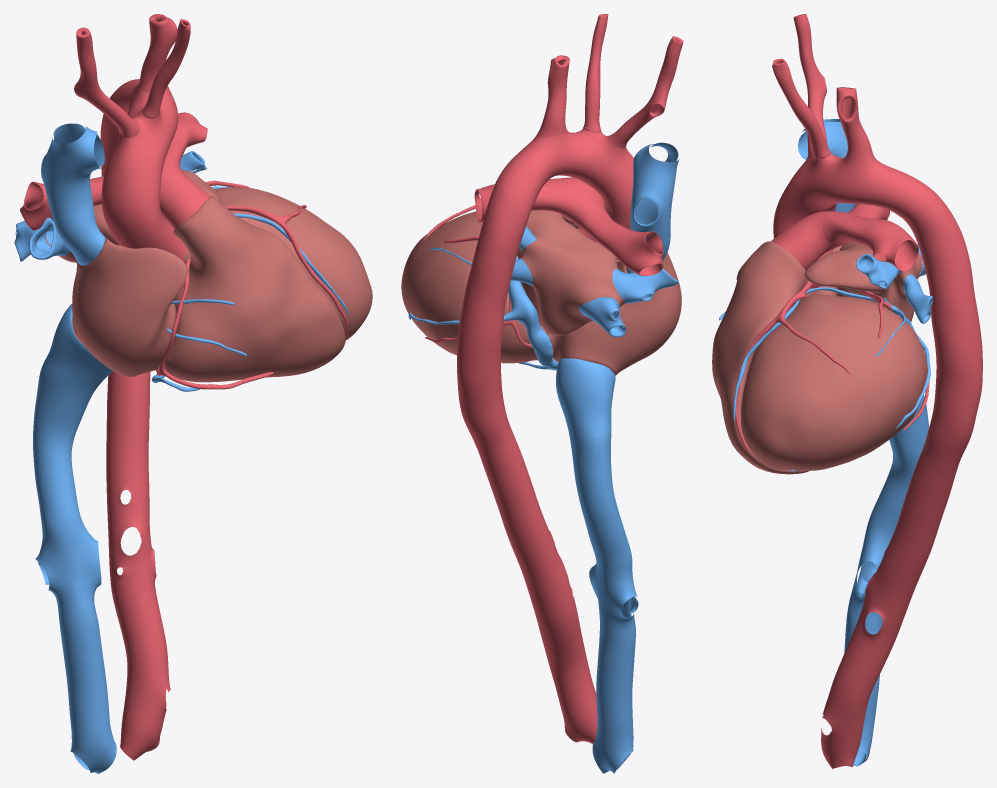
File: VH_F_Heart.glb
3 views of the same model, side by side, from view 1: azimuth 30°, elevation 25°; view 2: azimuth 150°, elevation 25°; view 3: azimuth 270°, elevation 25° (orthographic). The views are drawn at different scales.
Visible parts, largest first — view 1: VHF_right_ventricle, VHF_inferior_vena_cava_b, VHF_descending_aorta_b, VHF_right_cardiac_atrium, VHF_left_ventricle, VHF_superior_vena_cava, VHF_ascending_aorta, VHF_aortic_arch, VHF_inferior_vena_cava_a, VHF_pulmonary_trunk, VHF_brachiocephalic_artery_b, VHF_pulmonary_artery_R (+8 smaller); view 2: VHF_inferior_vena_cava_b, VHF_descending_aorta_b, VHF_descending_aorta_a, VHF_left_cardiac_atrium, VHF_left_ventricle, VHF_aortic_arch, VHF_right_cardiac_atrium, VHF_inferior_vena_cava_a, VHF_superior_vena_cava, VHF_pulmonary_artery_R, VHF_coronary_sinus, VHF_brachiocephalic_artery_b (+8 smaller); view 3: VHF_left_ventricle, VHF_descending_aorta_b, VHF_descending_aorta_a, VHF_right_ventricle, VHF_inferior_vena_cava_b, VHF_aortic_arch, VHF_left_cardiac_atrium, VHF_pulmonary_artery_L, VHF_pulmonary_trunk, VHF_brachiocephalic_artery_b, VHF_left_common_carotid_artery_b, VHF_ascending_aorta (+8 smaller).
Part boxes in pixels (<box>): VHF_right_ventricle: <box>157,195,345,382</box>; VHF_inferior_vena_cava_b: <box>33,367,116,773</box>; VHF_descending_aorta_b: <box>106,371,170,760</box>; VHF_right_cardiac_atrium: <box>72,237,188,377</box>; VHF_left_ventricle: <box>214,187,372,340</box>; VHF_superior_vena_cava: <box>41,123,105,265</box>; VHF_ascending_aorta: <box>101,167,187,259</box>; VHF_aortic_arch: <box>106,79,178,170</box>; VHF_inferior_vena_cava_a: <box>42,304,112,392</box>; VHF_pulmonary_trunk: <box>160,159,210,229</box>; VHF_brachiocephalic_artery_b: <box>74,27,122,119</box>; VHF_pulmonary_artery_R: <box>20,176,103,230</box>; VHF_inferior_vena_cava_b: <box>569,434,638,773</box>; VHF_descending_aorta_b: <box>476,432,597,744</box>; VHF_descending_aorta_a: <box>457,184,532,449</box>; VHF_left_cardiac_atrium: <box>517,210,625,336</box>; VHF_left_ventricle: <box>401,211,546,363</box>; VHF_aortic_arch: <box>495,128,633,205</box>; VHF_right_cardiac_atrium: <box>546,252,681,375</box>; VHF_inferior_vena_cava_a: <box>556,358,615,437</box>; VHF_superior_vena_cava: <box>626,142,679,273</box>; VHF_pulmonary_artery_R: <box>574,196,663,275</box>; VHF_coronary_sinus: <box>508,280,558,370</box>; VHF_brachiocephalic_artery_b: <box>626,36,683,132</box>; VHF_left_ventricle: <box>741,294,927,470</box>; VHF_descending_aorta_b: <box>821,449,959,769</box>; VHF_descending_aorta_a: <box>902,196,982,466</box>; VHF_right_ventricle: <box>712,241,808,474</box>; VHF_inferior_vena_cava_b: <box>844,404,928,766</box>; VHF_aortic_arch: <box>790,149,938,217</box>; VHF_left_cardiac_atrium: <box>805,242,922,321</box>; VHF_pulmonary_artery_L: <box>822,212,918,271</box>; VHF_pulmonary_trunk: <box>771,211,849,270</box>; VHF_brachiocephalic_artery_b: <box>793,14,826,124</box>; VHF_left_common_carotid_artery_b: <box>772,58,823,140</box>; VHF_ascending_aorta: <box>773,179,836,260</box>.
Bounding box in the file's own units: 0.1763 × 0.4282 × 0.1423.
